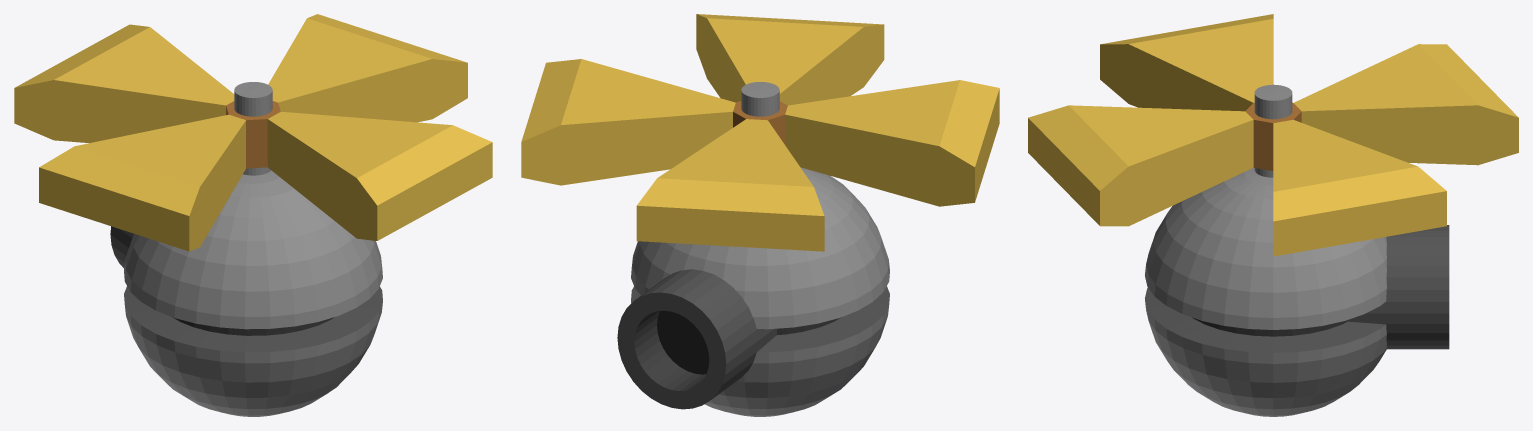
The model's file is enemySmall.fbx.
The picture shows the model from 3 angles, left to right: view 1: azimuth 30°, elevation 25°; view 2: azimuth 150°, elevation 25°; view 3: azimuth 270°, elevation 25°; orthographic projection.
Parts seen in each view (by area): view 1: Propeller, EnemySmall; view 2: Propeller, EnemySmall; view 3: Propeller, EnemySmall.
Boxes of the visible parts, <box> form: Propeller: <box>14,14,492,251</box>; EnemySmall: <box>110,82,382,416</box>; Propeller: <box>521,14,999,251</box>; EnemySmall: <box>617,82,889,416</box>; Propeller: <box>1028,14,1518,256</box>; EnemySmall: <box>1145,84,1449,416</box>.
Bounding box in the file's own units: 378 × 265 × 378.
